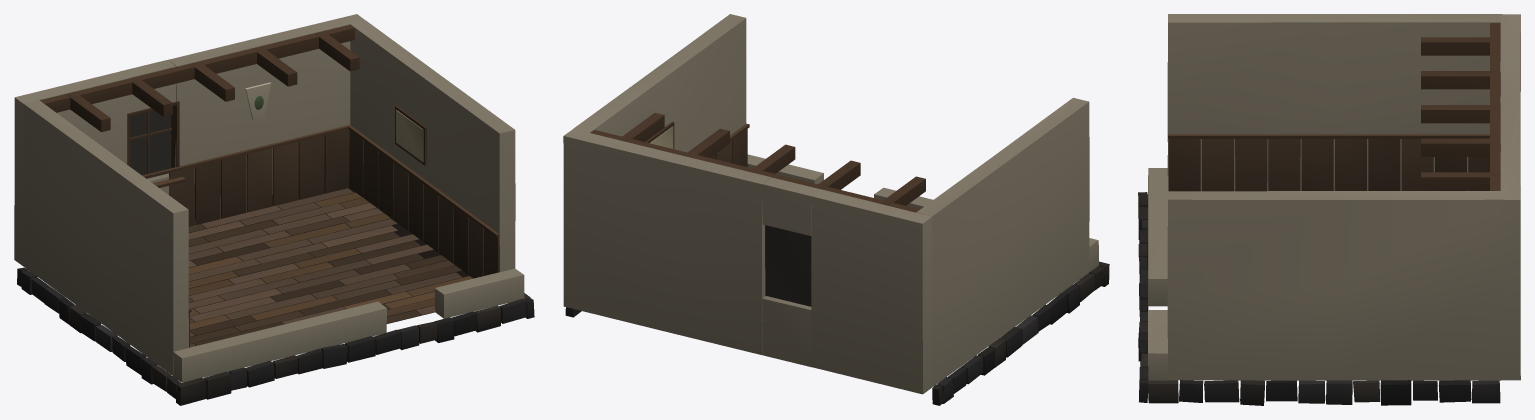
Rendered from ph_int_office_room.glb.
3 views of the same model, side by side, from view 1: azimuth 30°, elevation 25°; view 2: azimuth 150°, elevation 25°; view 3: azimuth 270°, elevation 25° (orthographic). The views are drawn at different scales.
Visible parts, largest first — view 1: ph_int_office_room; view 2: ph_int_office_room; view 3: ph_int_office_room.
Boxes of the visible parts, bbox=[...] form: ph_int_office_room: bbox=[14, 14, 534, 405]; ph_int_office_room: bbox=[563, 14, 1109, 405]; ph_int_office_room: bbox=[1138, 14, 1520, 405].
Size of the model in its own units: 6.9 by 3.36 by 5.75.
